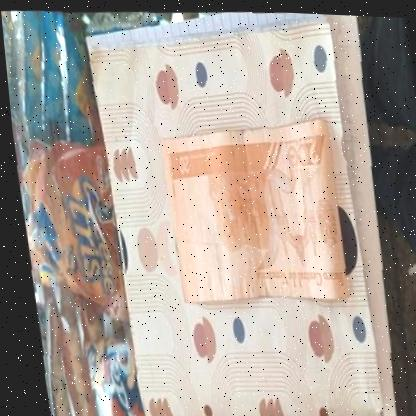twenty-back-vef: (152, 108, 349, 307)
